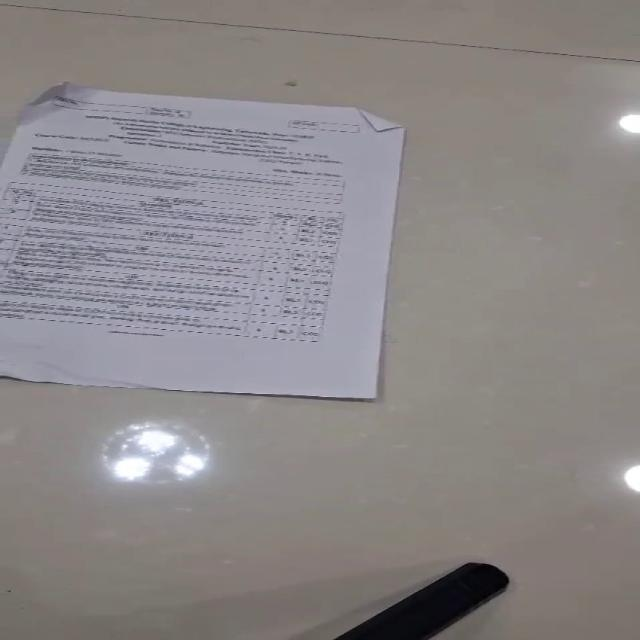paper: (0, 80, 406, 400)
